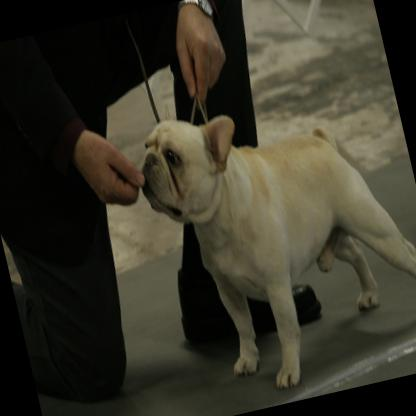French_bulldog: (124, 54, 416, 411)
